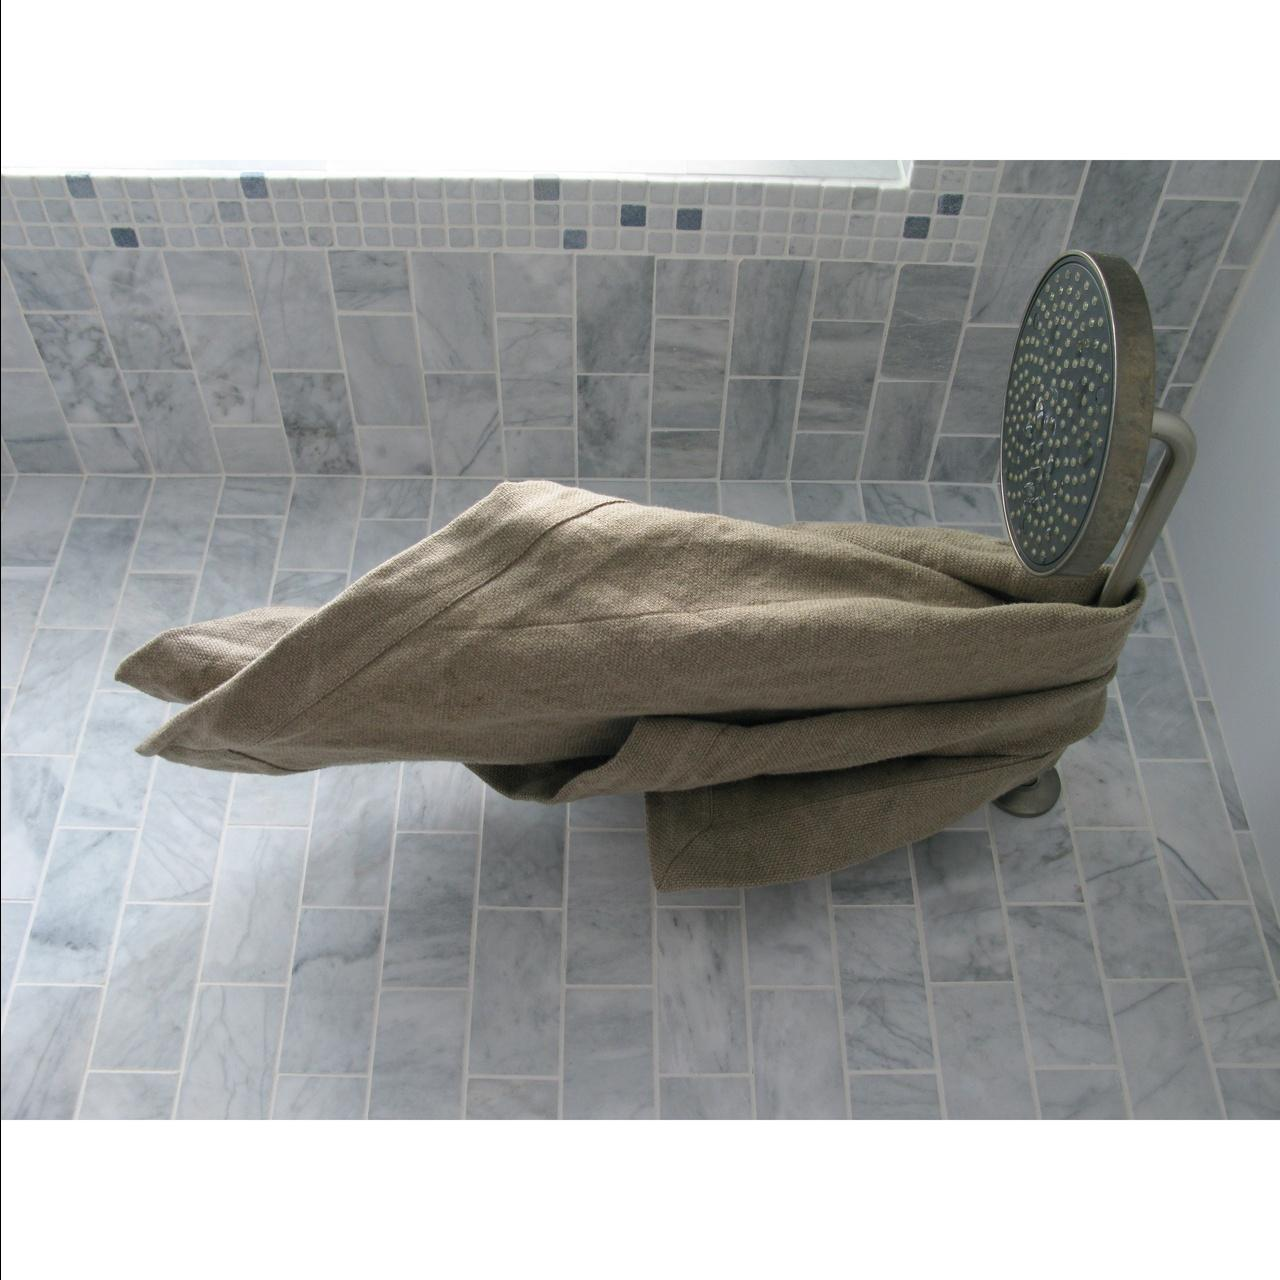towel: (74, 506, 1034, 864)
